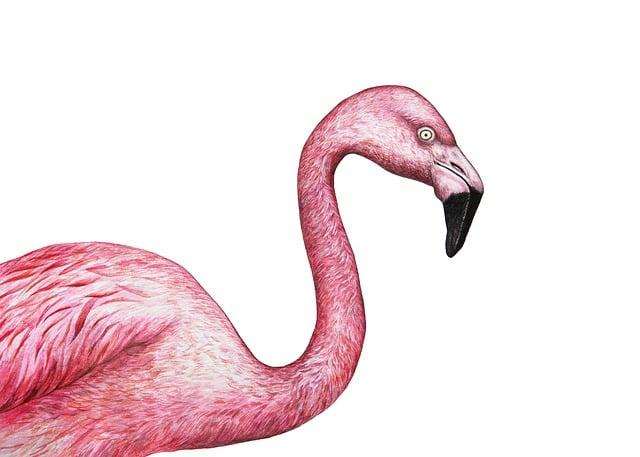Non_Gorille: (19, 54, 533, 435)
